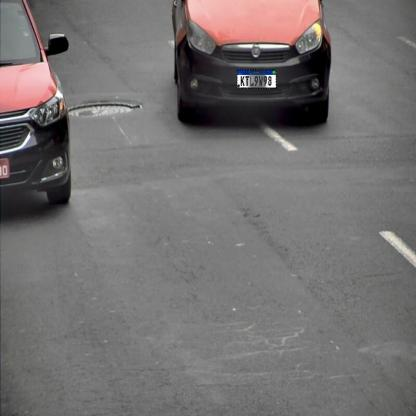PlacaM: (236, 69, 276, 89)
